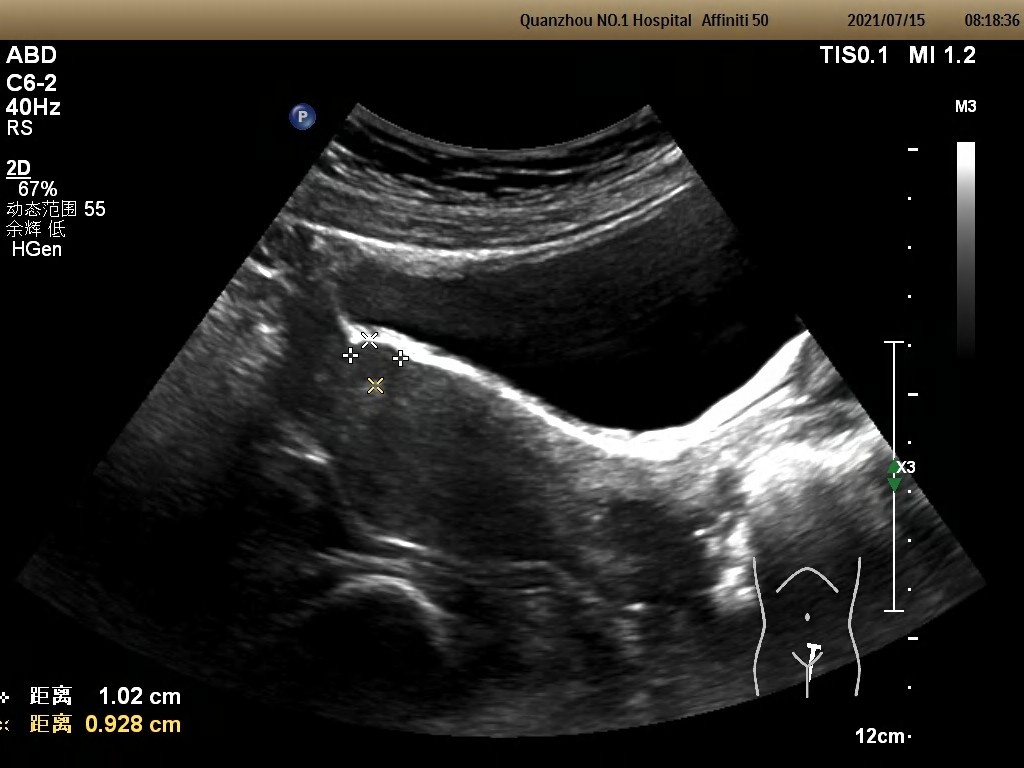肌瘤: (360, 344, 397, 380)
